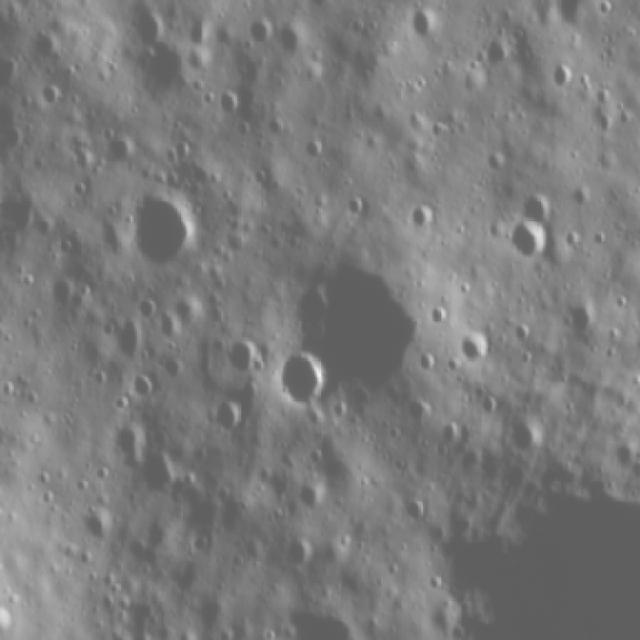crater: (418, 478, 640, 640), (283, 250, 449, 401), (128, 186, 208, 276), (276, 349, 332, 414), (290, 592, 356, 640), (132, 447, 185, 504), (217, 326, 266, 380), (505, 218, 550, 268), (205, 396, 249, 444), (110, 412, 148, 465), (452, 323, 494, 369), (506, 418, 548, 459), (80, 500, 118, 545), (108, 320, 146, 362), (111, 621, 194, 640), (272, 20, 311, 60), (292, 472, 328, 512), (99, 131, 138, 167), (514, 194, 554, 229), (284, 528, 313, 575), (242, 12, 276, 48), (400, 202, 434, 236), (480, 39, 512, 75), (408, 7, 441, 39), (122, 374, 155, 406), (548, 59, 577, 90), (158, 312, 185, 343), (36, 81, 61, 112), (345, 196, 370, 224), (218, 85, 239, 118), (0, 607, 18, 640), (637, 127, 640, 164)
